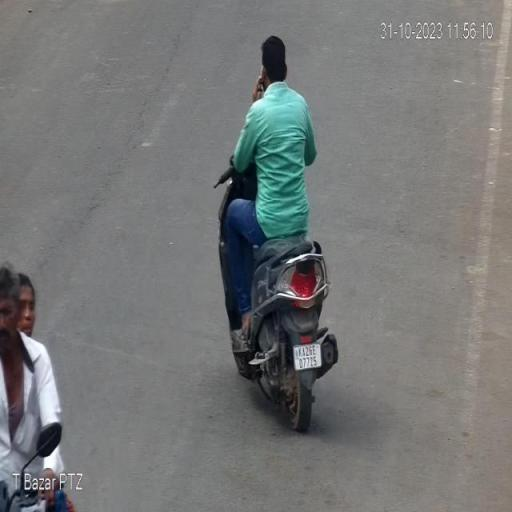using mobile: (253, 59, 267, 96)
